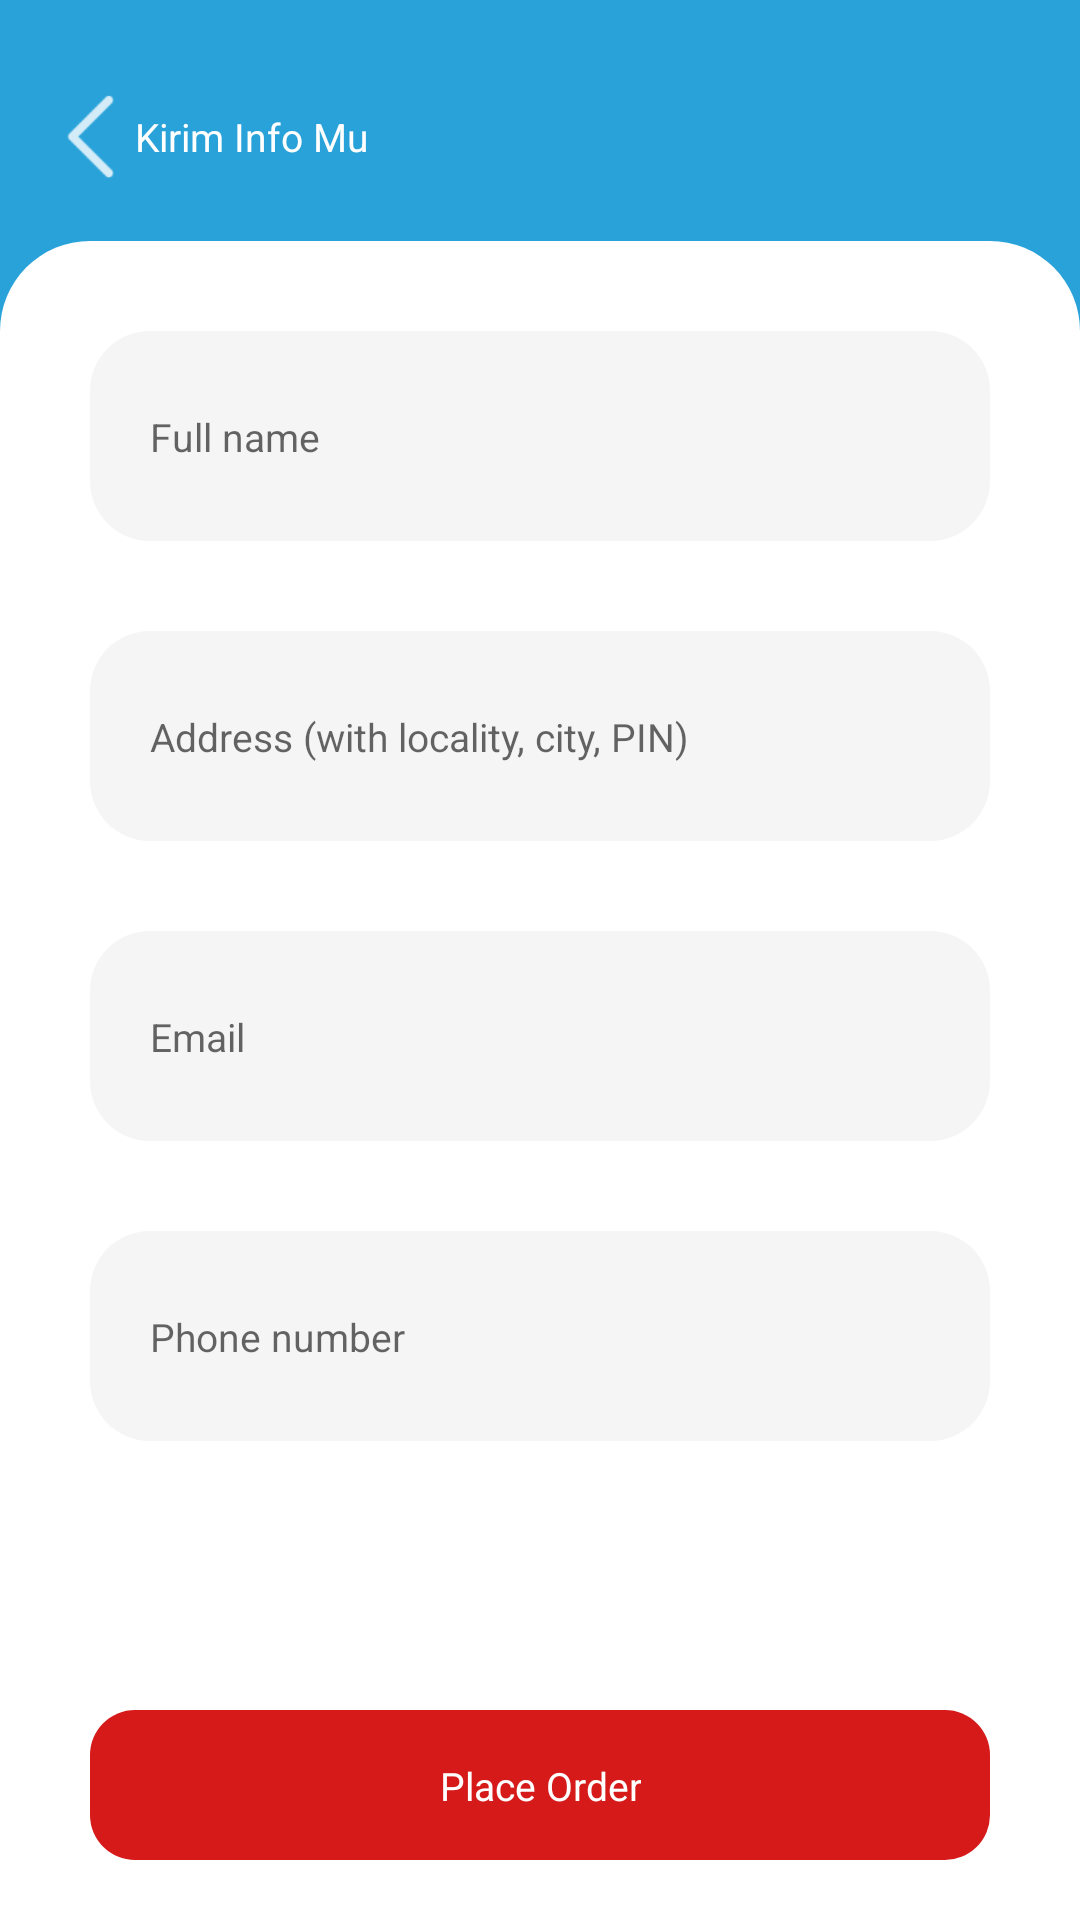

Icons on this 1080px x 1920px Android screen, each with the point to tap as (x,y):
navigate back: (90,137)
